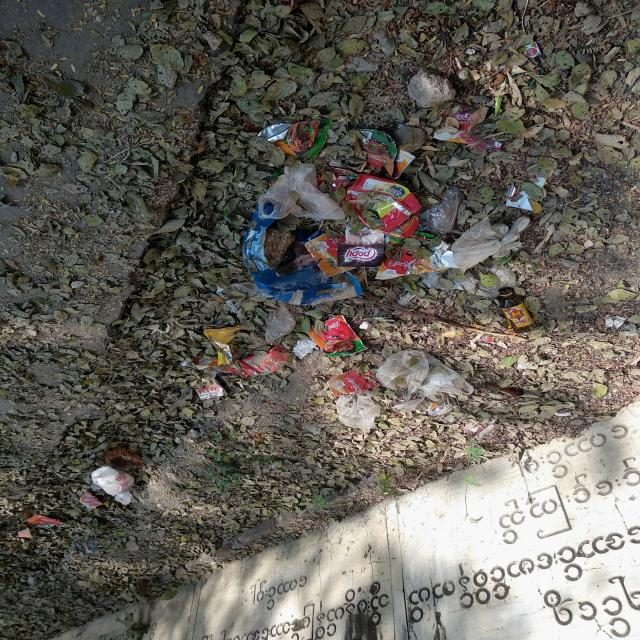Crisp packet: (346, 173, 422, 232), (350, 203, 419, 239)
Other plastic: (316, 128, 416, 191), (256, 119, 332, 157), (375, 240, 449, 279), (307, 315, 368, 358), (304, 228, 356, 278), (218, 344, 289, 380), (337, 225, 384, 268), (203, 323, 245, 365), (326, 369, 382, 398), (435, 104, 476, 143), (505, 174, 547, 211), (190, 348, 238, 370), (442, 324, 495, 343), (294, 227, 322, 256), (194, 378, 226, 400), (24, 515, 63, 528), (79, 491, 105, 510), (517, 40, 541, 59), (461, 424, 492, 438), (441, 251, 459, 268), (422, 271, 439, 288), (397, 292, 416, 307), (17, 528, 38, 537)
Other plastic container: (497, 288, 535, 333)
Plastic film: (243, 204, 364, 306), (375, 349, 475, 415), (258, 163, 345, 222), (451, 216, 529, 272), (417, 187, 465, 232), (336, 390, 381, 429), (91, 466, 135, 505), (463, 267, 516, 299), (217, 281, 254, 315), (266, 301, 296, 341), (458, 127, 502, 150)
Unlabeled litter: (288, 337, 317, 360)
